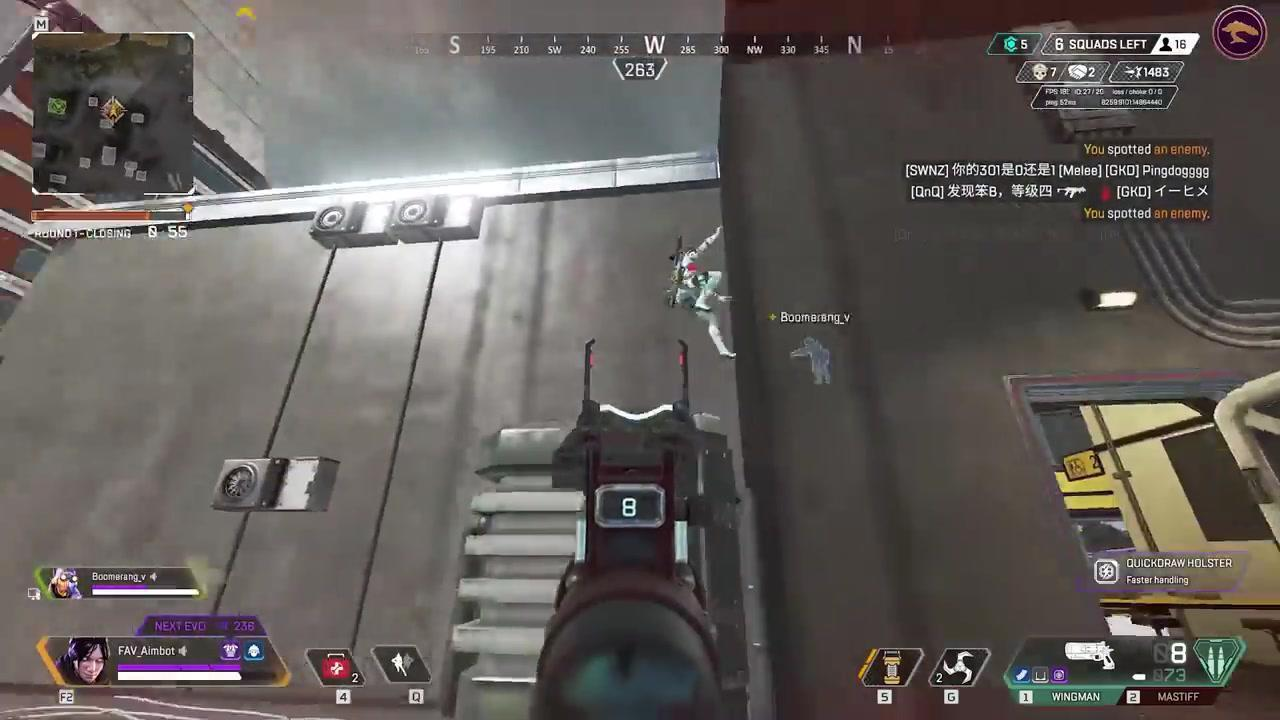avatar: (668, 230, 732, 360)
